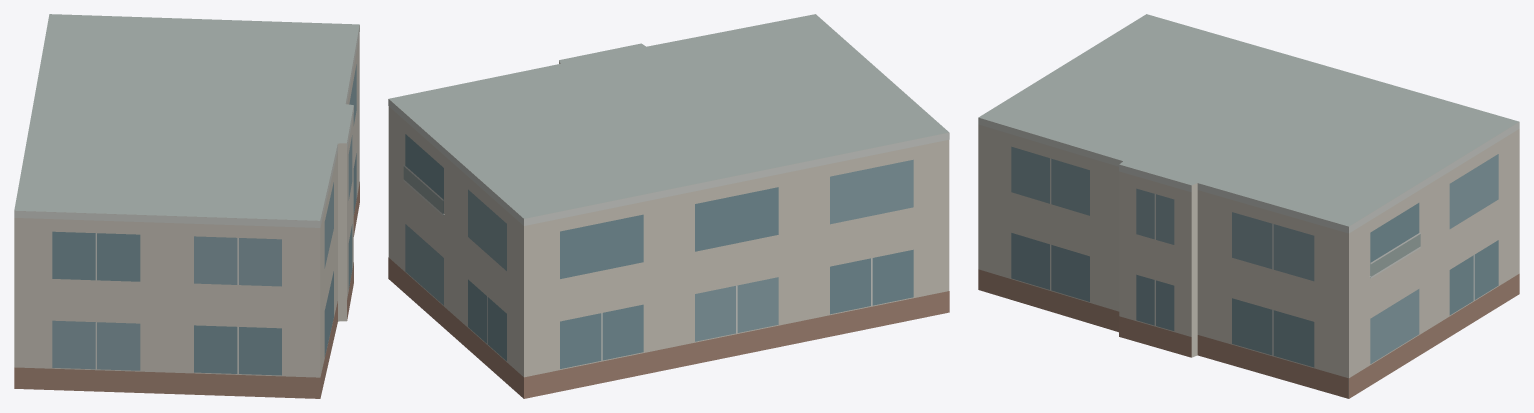
The model's file is survey-upis-32623666.glb.
3 renders of one model, left to right at view 1: azimuth 30°, elevation 25°; view 2: azimuth 150°, elevation 25°; view 3: azimuth 270°, elevation 25°, orthographic. The views are drawn at different scales.
Visible parts, largest first — view 1: survey-upis-32623666.tmp; view 2: survey-upis-32623666.tmp; view 3: survey-upis-32623666.tmp.
Part boxes in pixels (x1,y1,x2,y2): survey-upis-32623666.tmp: (14,14,359,398); survey-upis-32623666.tmp: (388,14,949,398); survey-upis-32623666.tmp: (978,14,1519,398).
Bounding box in the file's own units: 16.15 × 6.1 × 17.38.
